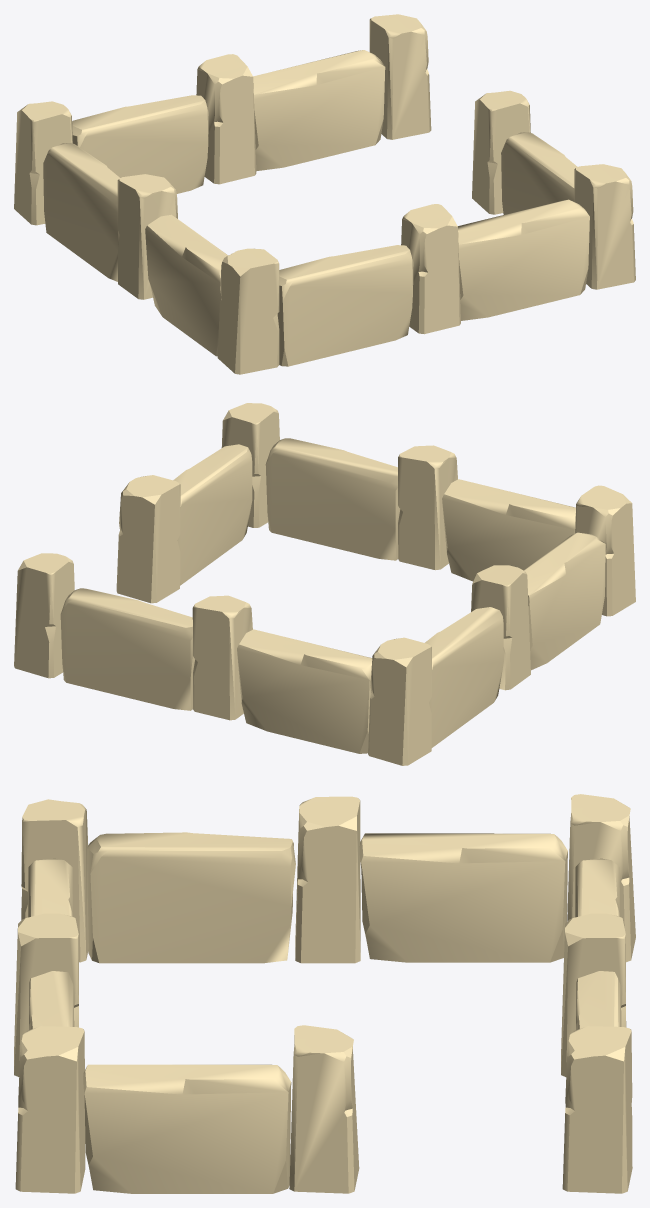
File: Module_Garden_Bed_LOD01.fbx
3 renders of one model, top to bottom at view 1: azimuth 30°, elevation 25°; view 2: azimuth 150°, elevation 25°; view 3: azimuth 270°, elevation 25°, orthographic. The views are drawn at different scales.
Parts seen in each view (by area): view 1: Module_Garden_Bed_LOD01_Geometry; view 2: Module_Garden_Bed_LOD01_Geometry; view 3: Module_Garden_Bed_LOD01_Geometry.
Boxes of the visible parts, left/top/right/bottom form: Module_Garden_Bed_LOD01_Geometry: left=14, top=14, right=635, bottom=374; Module_Garden_Bed_LOD01_Geometry: left=14, top=403, right=635, bottom=765; Module_Garden_Bed_LOD01_Geometry: left=14, top=794, right=635, bottom=1193.
Bounding box in the file's own units: 7.36 × 1.93 × 7.42.
